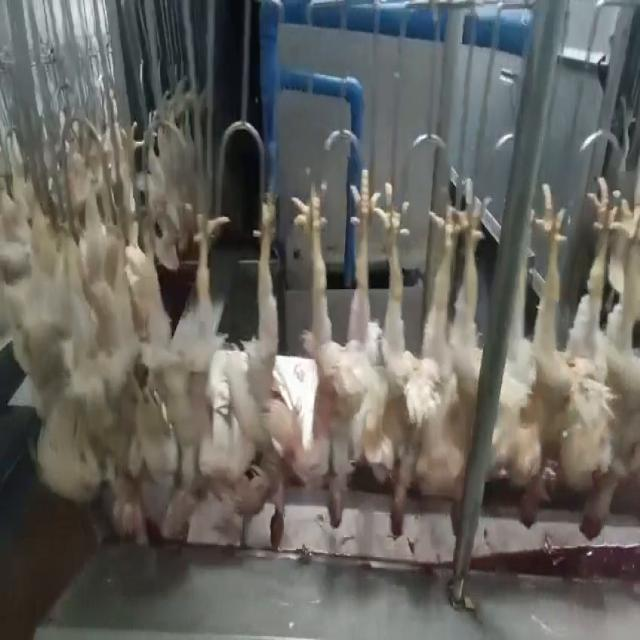chicken: (290, 163, 384, 526), (191, 183, 285, 543), (378, 173, 466, 538), (562, 167, 639, 543), (495, 177, 568, 534), (426, 172, 491, 534), (125, 250, 190, 535)
